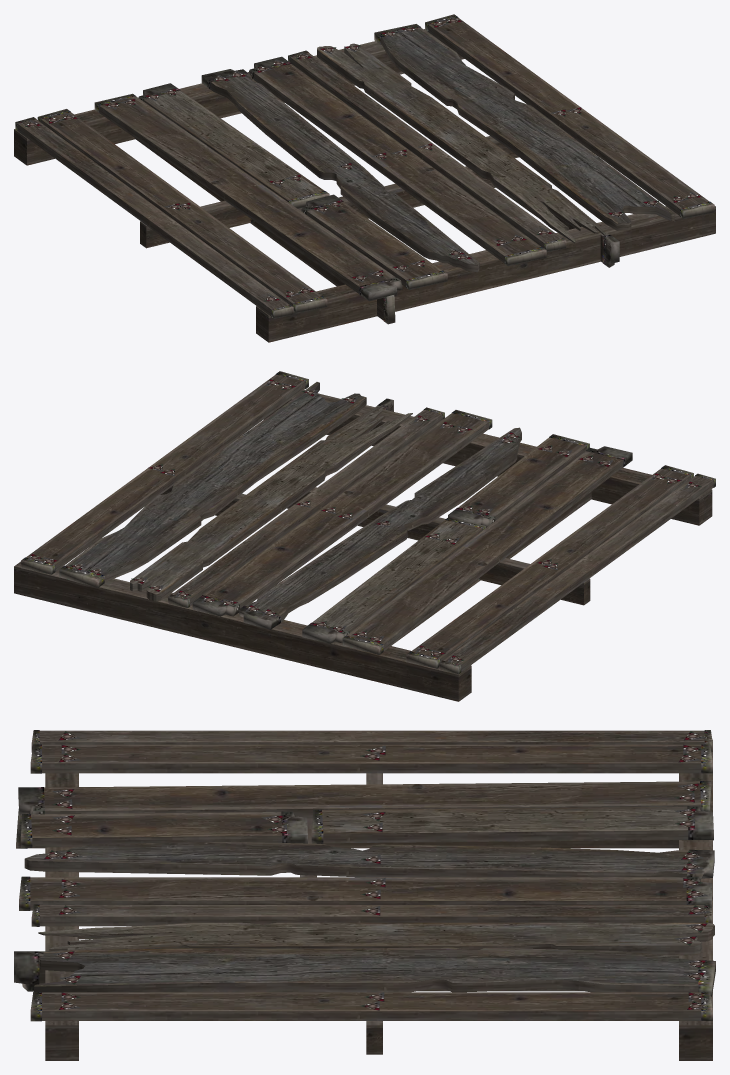
The model's file is improvised_walkway_floor_300x300_edge_a.glb.
3 views of the same model, one above another, from view 1: azimuth 30°, elevation 25°; view 2: azimuth 150°, elevation 25°; view 3: azimuth 270°, elevation 25° (orthographic). The views are drawn at different scales.
Parts seen in each view (by area): view 1: improvised_walkway_floor_300x300_edge_a; view 2: improvised_walkway_floor_300x300_edge_a; view 3: improvised_walkway_floor_300x300_edge_a.
Part boxes in pixels (x1=…): improvised_walkway_floor_300x300_edge_a: x1=14, y1=14, x2=715, y2=342; improvised_walkway_floor_300x300_edge_a: x1=14, y1=371, x2=715, y2=701; improvised_walkway_floor_300x300_edge_a: x1=14, y1=730, x2=715, y2=1060.
Bounding box in the file's own units: 3 × 0.2386 × 3.11.
Materials: 1 (1 with a texture image).
